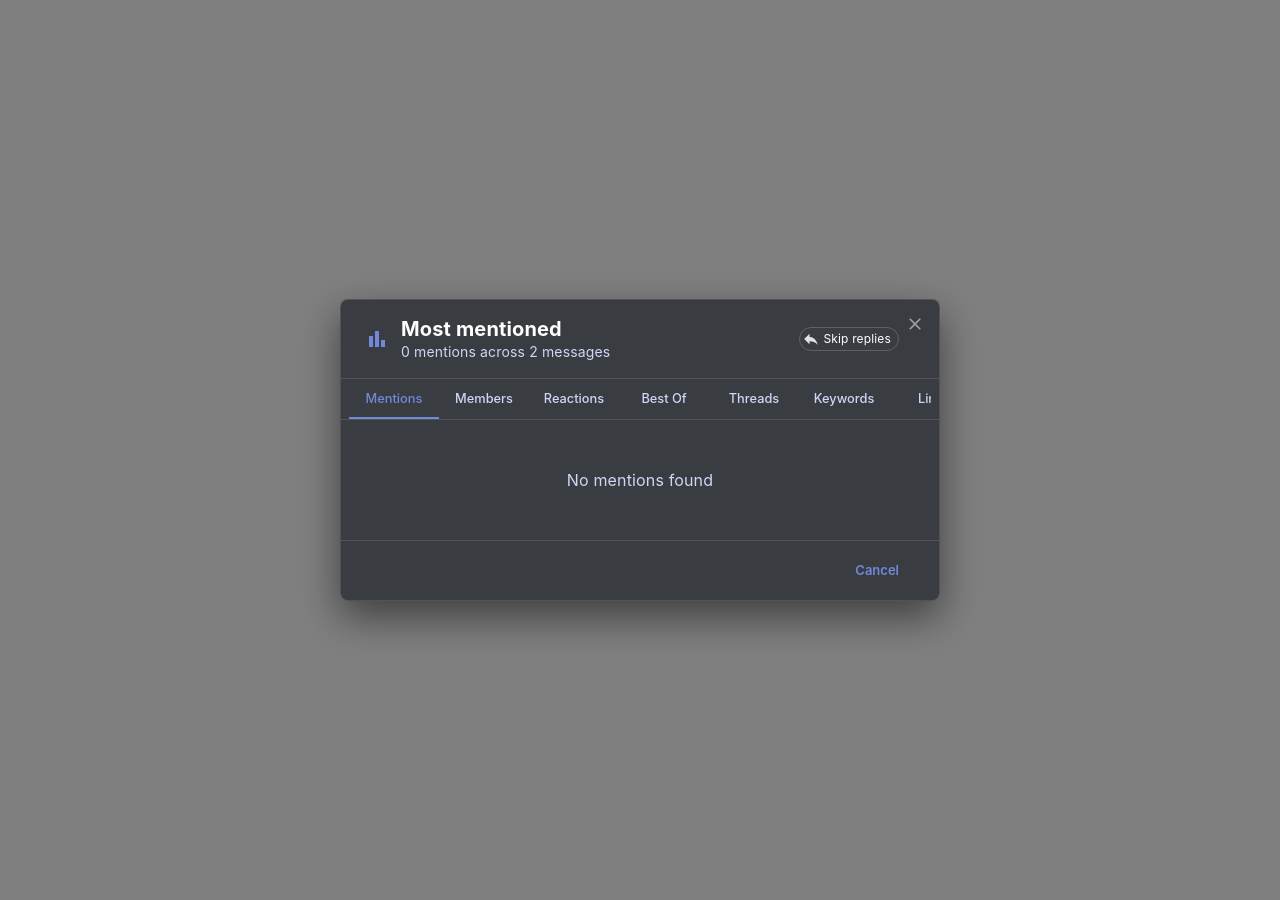
Scenario: AnalyticsModal › other reports › Best Of lists reacted messages with excerpt and emoji breakdown
Click the tab "Best Of" at [664, 399], box top-left (619, 379), bottom-right (709, 419)
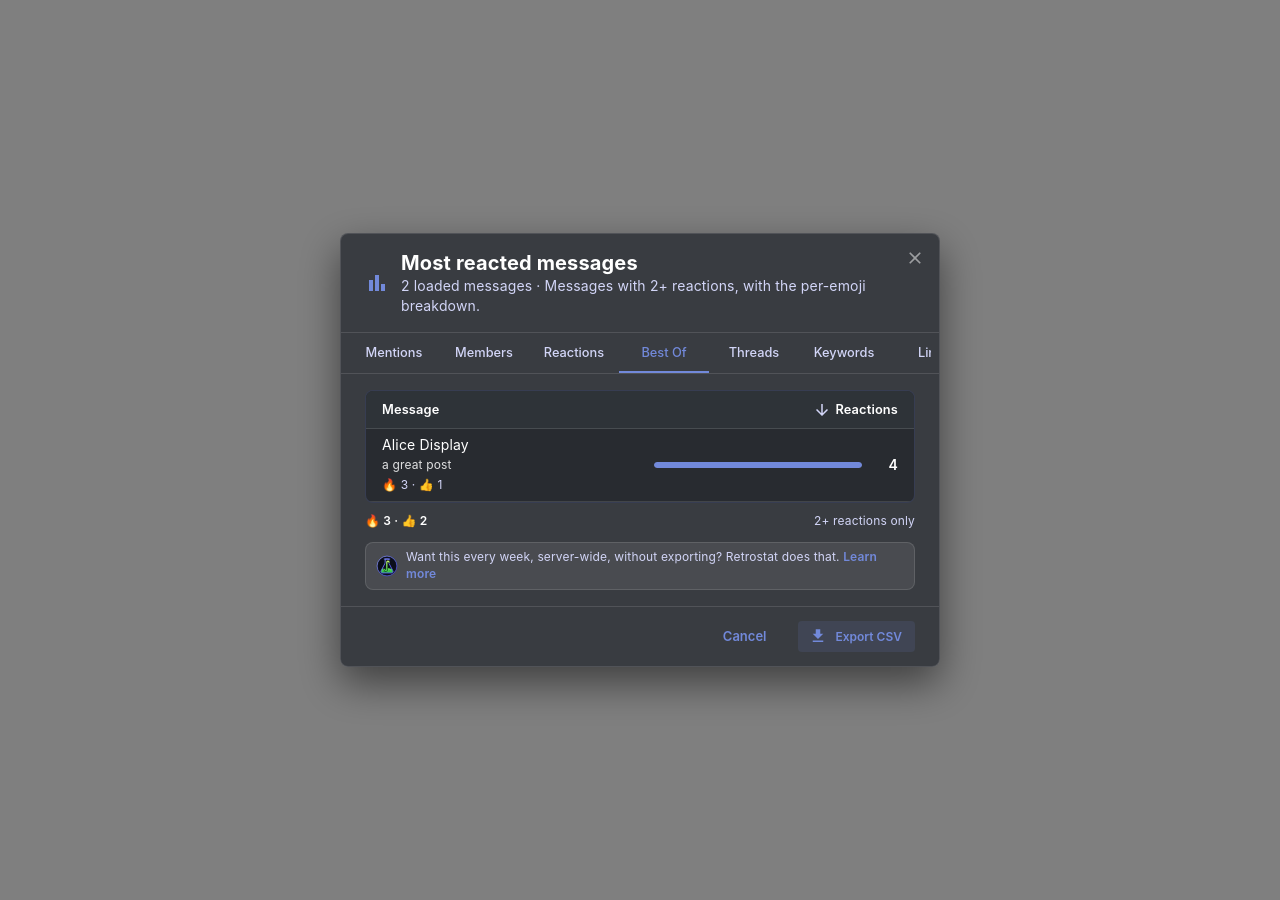
Expected: the heading with test id "analytics-title" reads "Most reacted messages", top-left (401, 251), bottom-right (638, 275)
Expected: the number of rows with test id "analytics-row" is 1, top-left (366, 429), bottom-right (914, 502)
Expected: the row with test id "analytics-row" shows "Alice", top-left (382, 436), bottom-right (469, 453)
